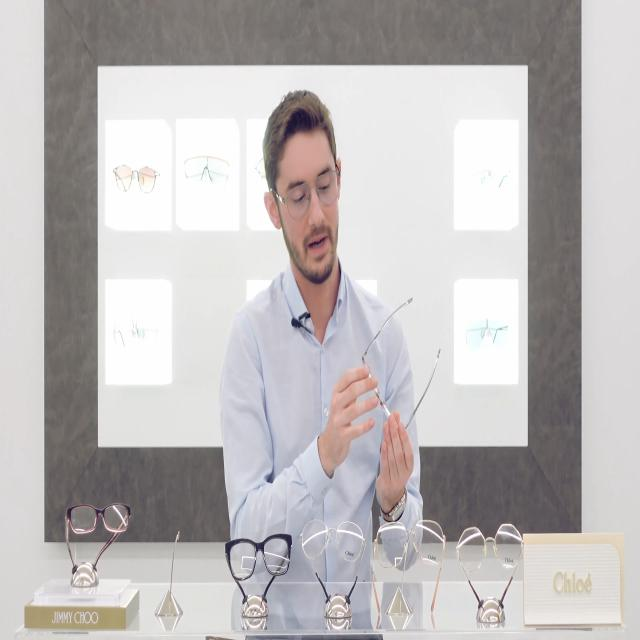dress: (218, 257, 424, 584)
glasses: (358, 350, 412, 436), (282, 168, 340, 222)
